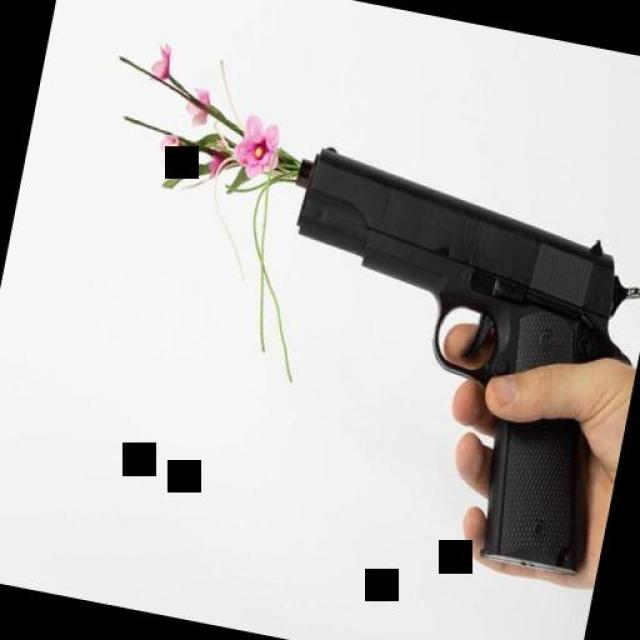gun: (227, 136, 640, 580)
